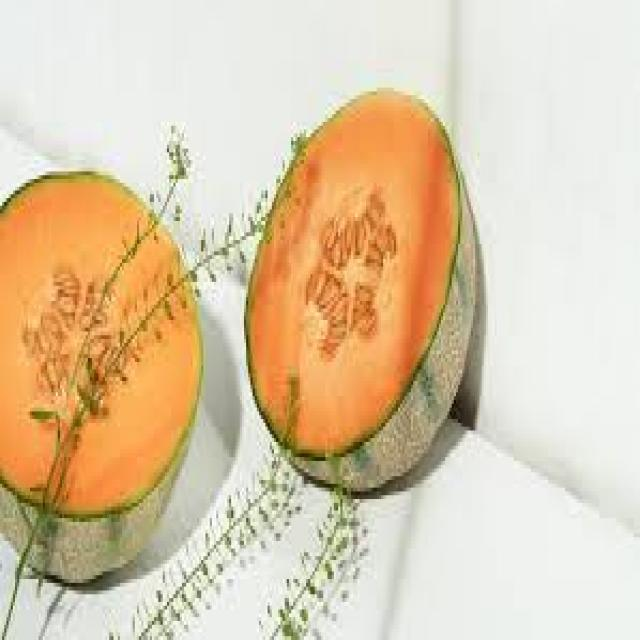melon: (246, 84, 484, 495), (2, 172, 212, 594)
